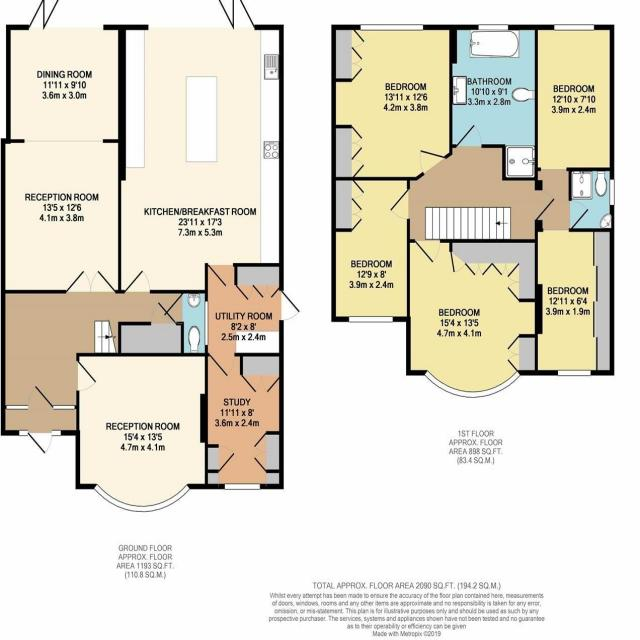DOOR: (206, 262, 235, 289), (419, 149, 447, 175), (208, 352, 236, 378), (389, 187, 410, 221), (414, 238, 441, 264), (455, 123, 483, 148), (535, 188, 556, 221), (76, 359, 97, 392), (568, 199, 590, 230), (124, 269, 151, 294)
ROOM: (118, 24, 284, 294), (0, 24, 127, 294), (406, 239, 543, 398), (75, 352, 208, 513), (331, 24, 457, 181), (534, 24, 615, 171), (535, 228, 615, 376), (331, 177, 411, 322), (200, 352, 284, 489)
WINDOW: (423, 369, 521, 399), (93, 483, 191, 513), (360, 24, 424, 31), (553, 23, 596, 31), (348, 316, 394, 323), (224, 483, 261, 490), (557, 369, 591, 376), (204, 300, 209, 346), (477, 24, 509, 31), (609, 179, 615, 206)
